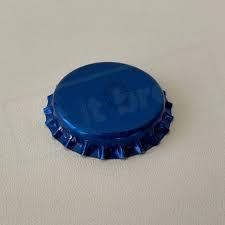Metal: (31, 58, 183, 172)
